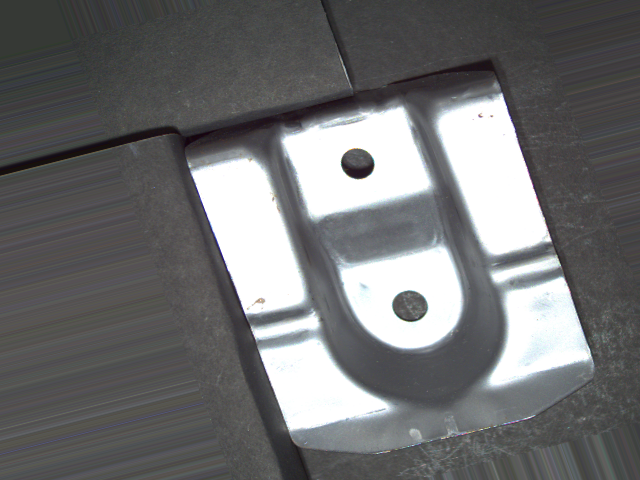defect: (390, 289, 432, 326)
